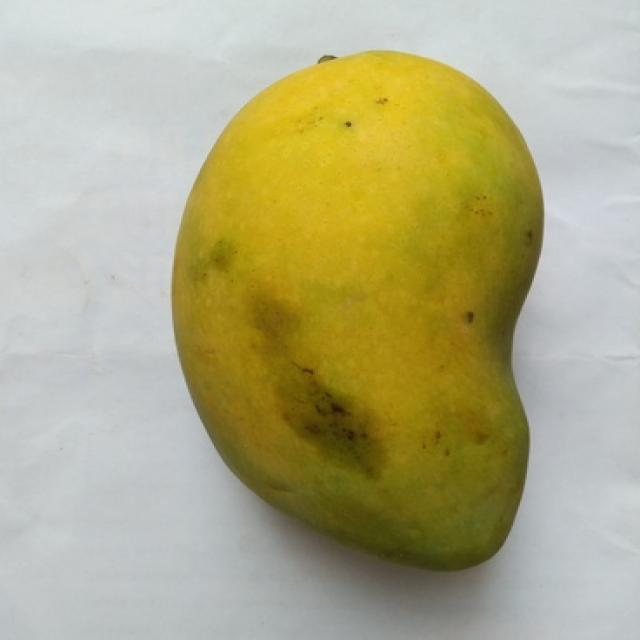Mango: (174, 51, 543, 569)
